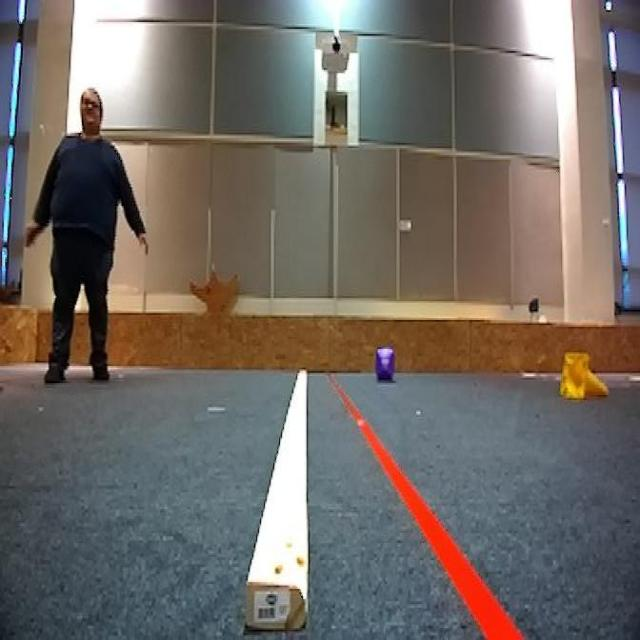frc_cone: (557, 347, 608, 402)
frc_cube: (374, 344, 398, 381)
